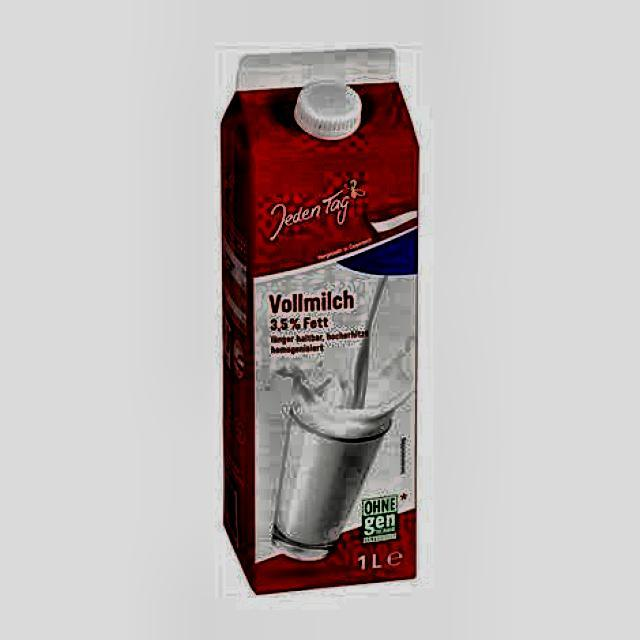cardboard: (218, 47, 419, 594)
